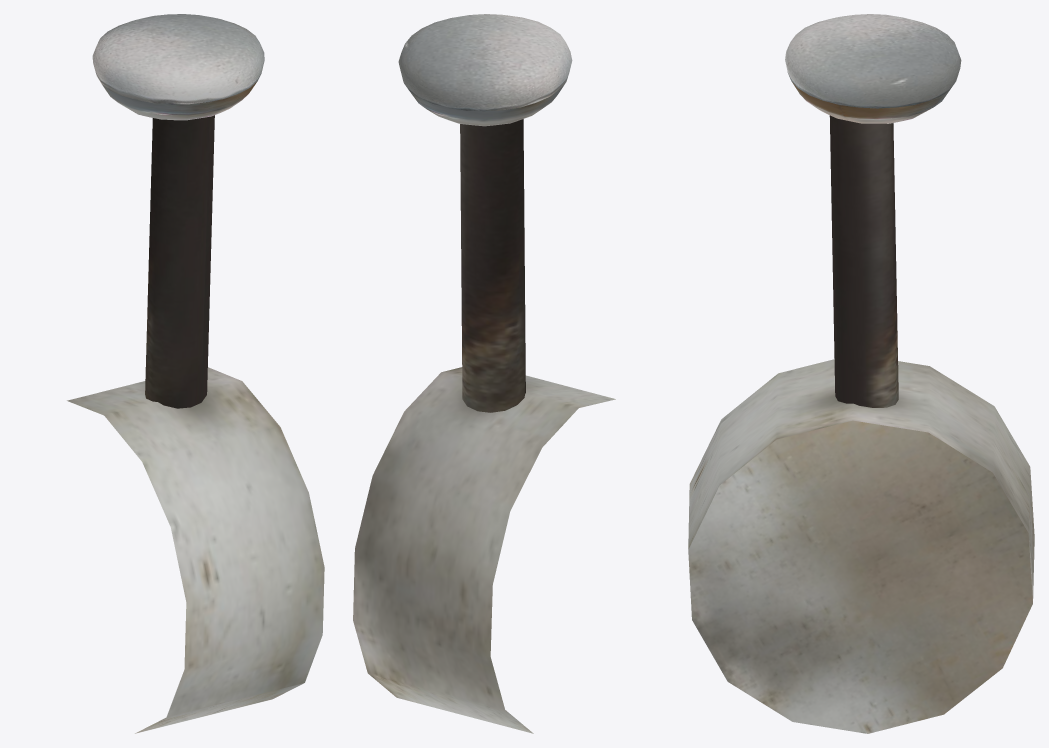
The model's file is Unity2Skfb.gltf.
The picture shows the model from 3 angles, left to right: view 1: azimuth 30°, elevation 25°; view 2: azimuth 150°, elevation 25°; view 3: azimuth 270°, elevation 25°; orthographic projection.
Parts seen in each view (by area): view 1: node_A32_-98954; view 2: node_A32_-98954; view 3: node_A32_-98954.
Boxes of the visible parts, x1=… form: node_A32_-98954: x1=67, y1=14, x2=324, y2=733; node_A32_-98954: x1=353, y1=14, x2=615, y2=733; node_A32_-98954: x1=688, y1=14, x2=1034, y2=733.
Size of the model in its own units: 0.0549 by 0.2178 by 0.102.
1 material, 1 textured.
